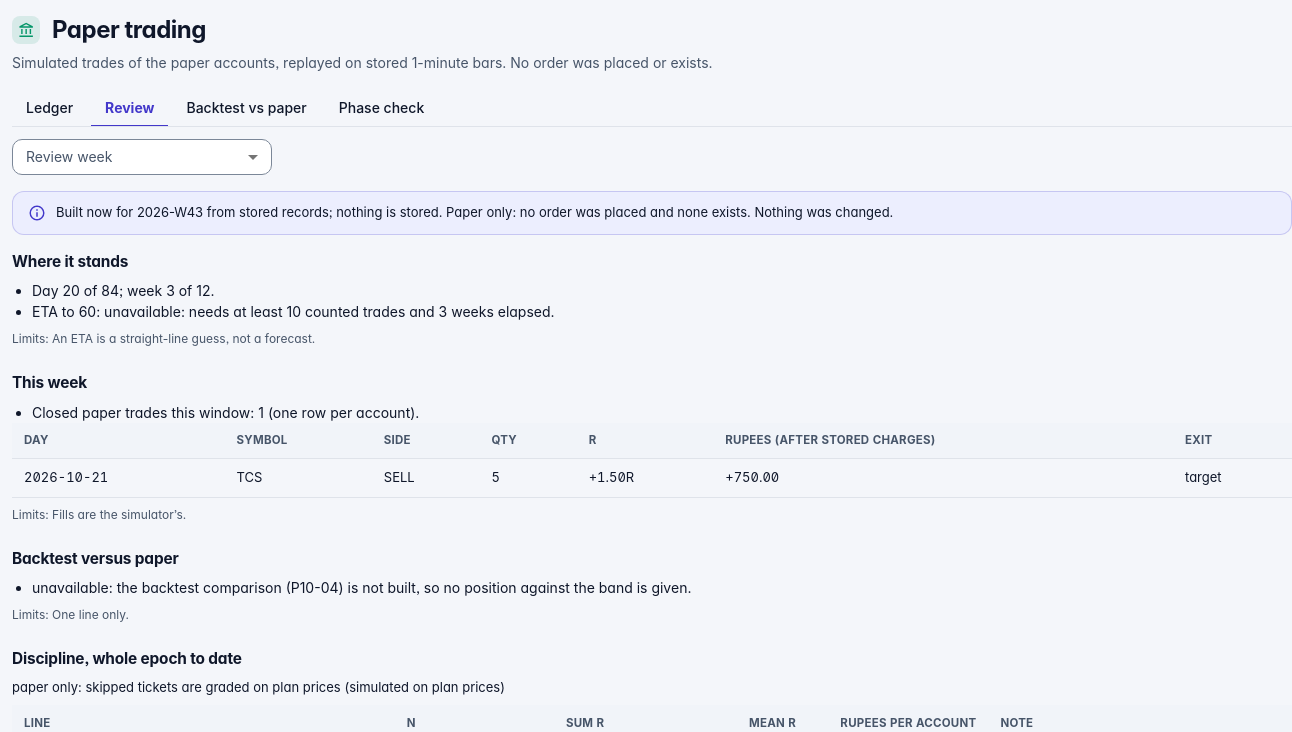
Test: Paper review tab › shows a stored week chosen from the picker
Click the dropdown named "Review week" at (142, 157), box [12,139,272,175]
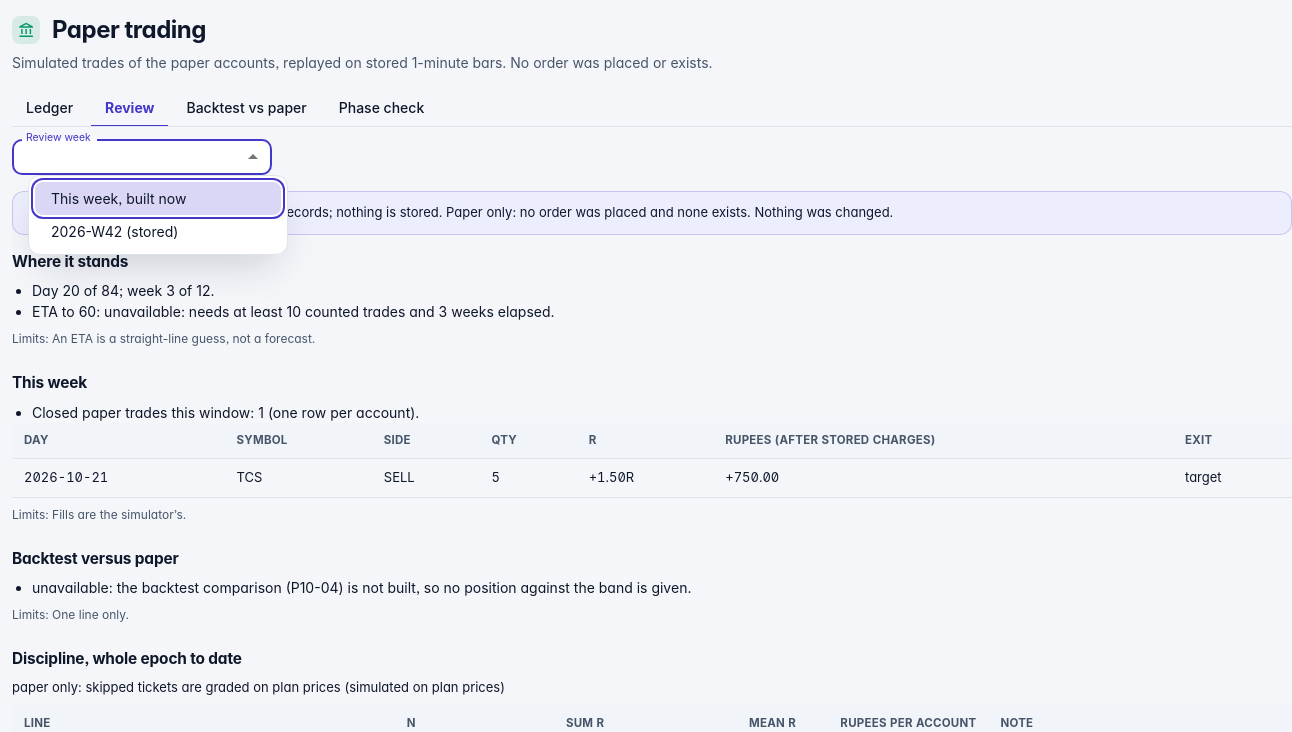
Click the option "2026-W42 (stored)" at (115, 232), box [51,223,178,240]
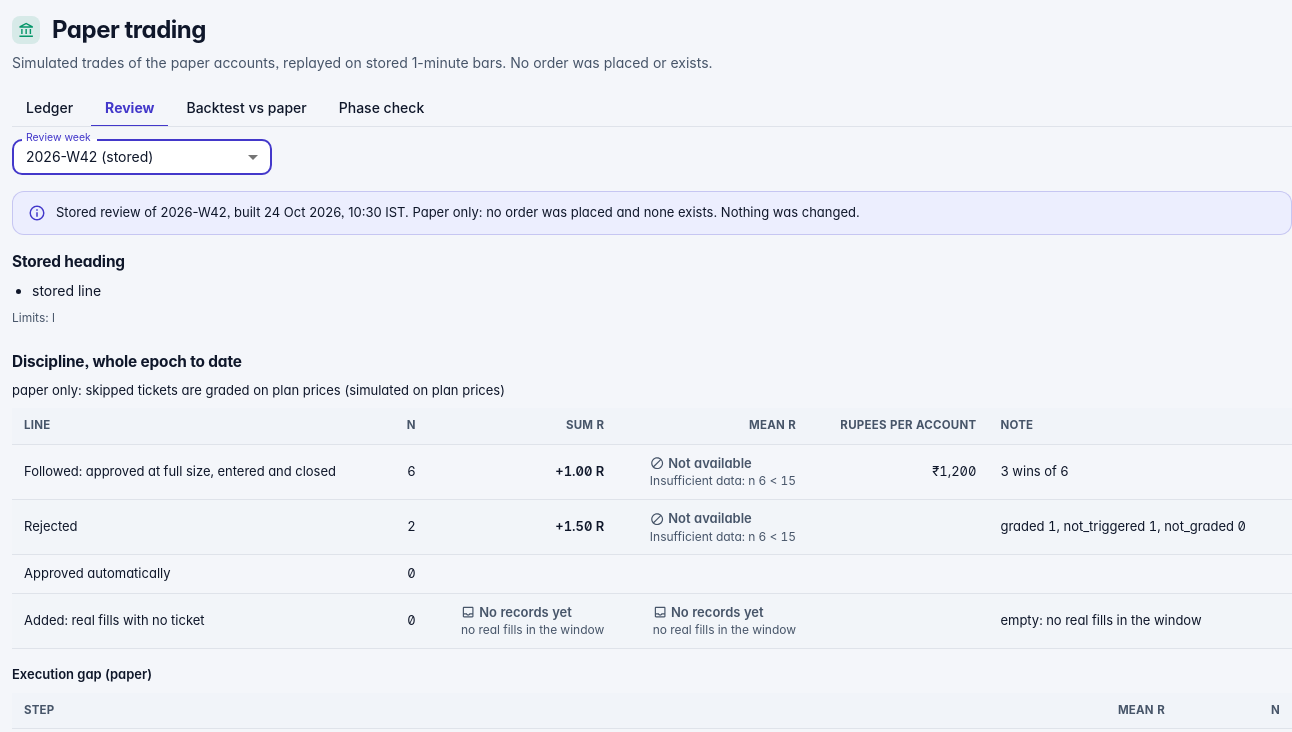
expect the heading "Stored heading" is shown: met, box [12,252,125,271]
expect the text "Stored review of 2026-W42" is shown: met, box [56,204,409,220]
